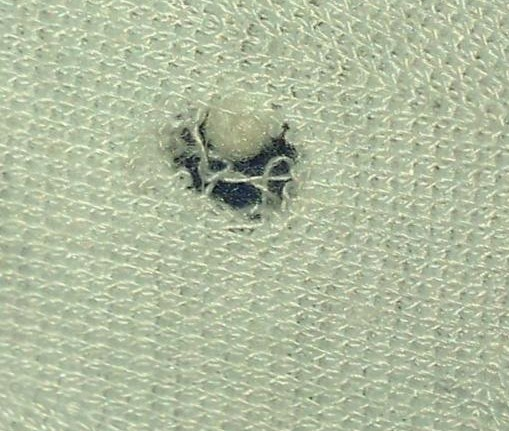hole: (191, 89, 293, 163)
